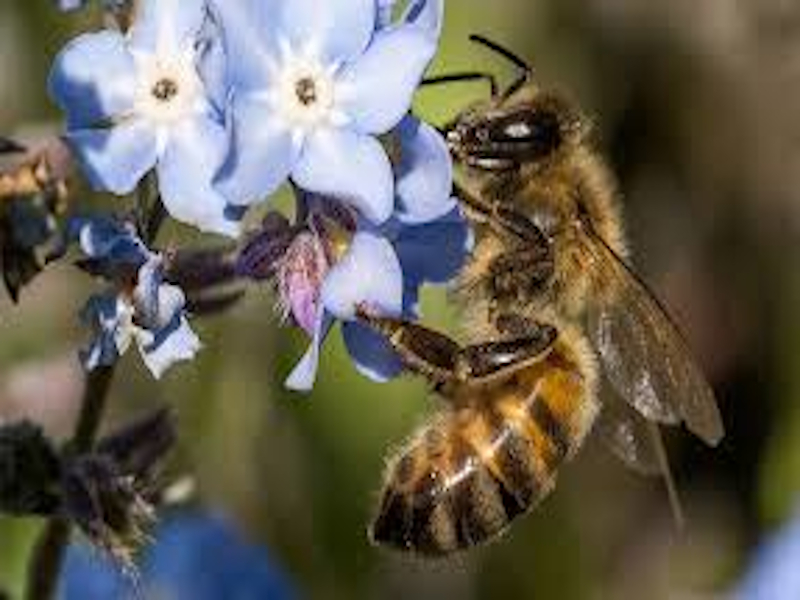abeja: (352, 30, 723, 587)
